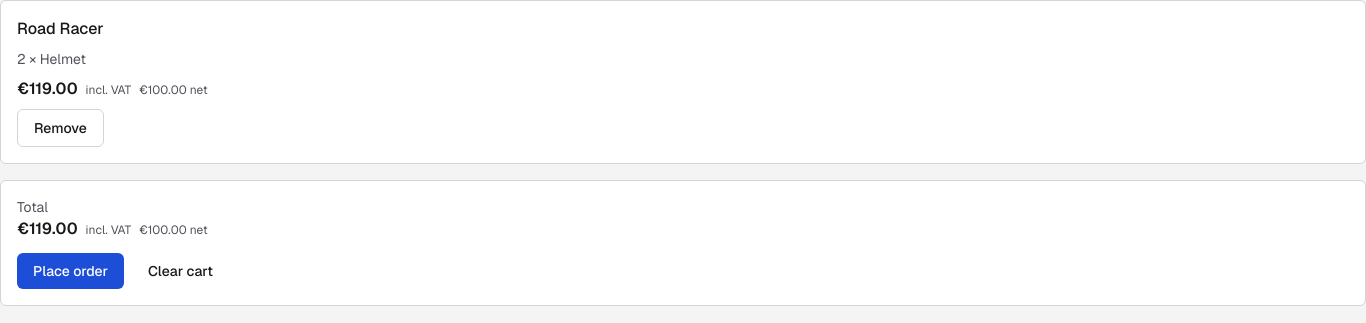
checkout result › shows the confirmed order
The image size is (1366, 323).
Step 1. Click the button "Place order" → {"x": 70, "y": 271}, box [17,253,124,289]
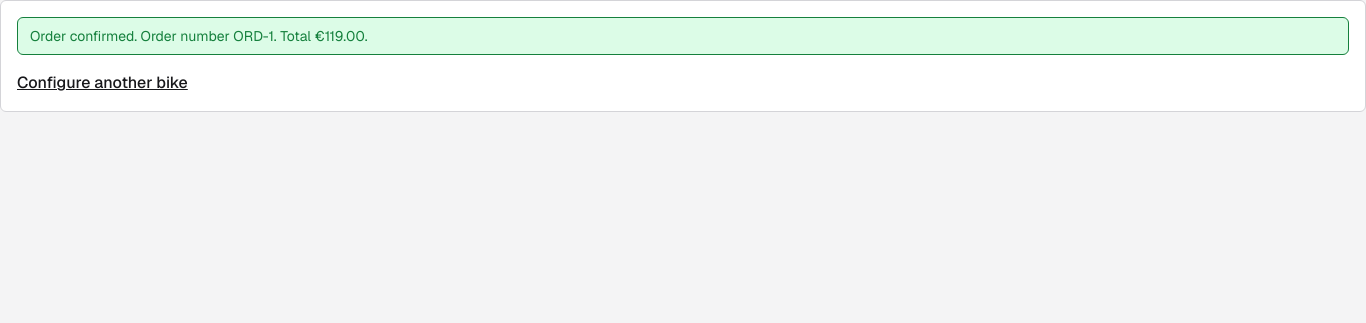
Expected: the text "Order confirmed. Order number ORD-1. Total €119.00." is shown, [17,17,1349,55]
Expected: the link "Configure another bike" is shown, [17,72,188,93]
Expected: the text "Order confirmed" is shown, [30,27,233,45]
